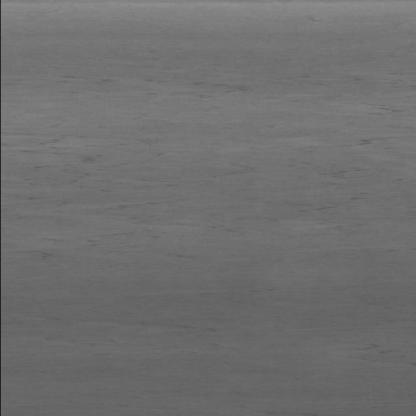silk_spot: (32, 92, 416, 236)
